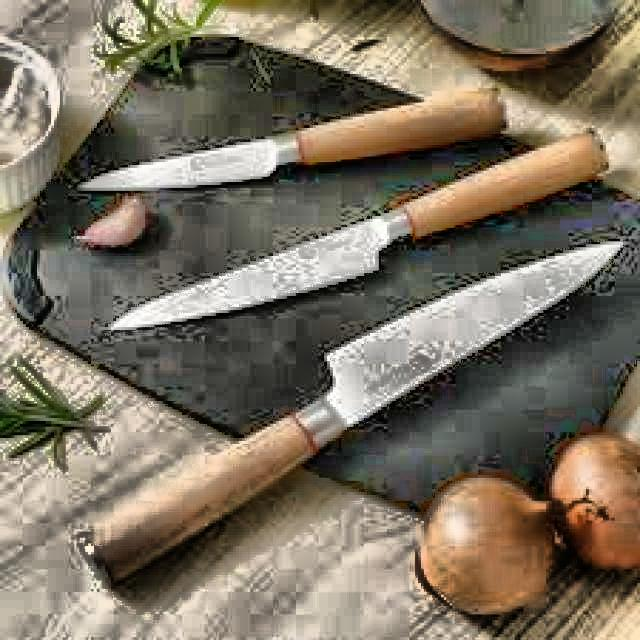knife: (77, 230, 634, 584), (102, 120, 618, 333), (74, 70, 519, 202)
